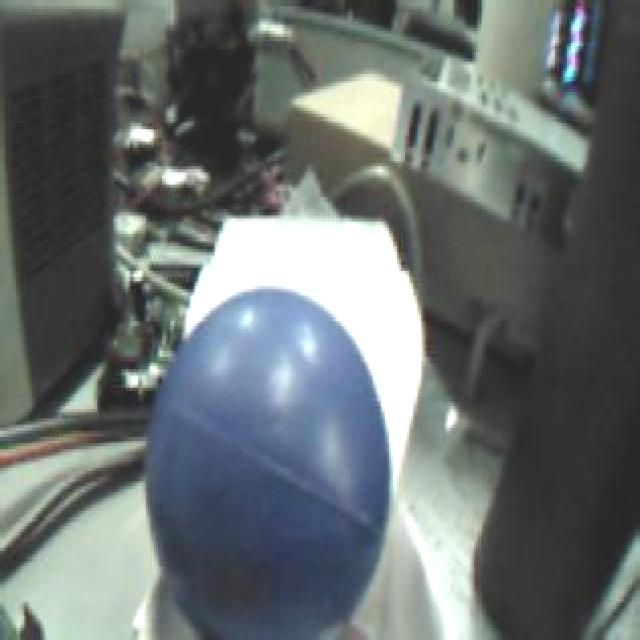BallPurple: (146, 286, 391, 640)
